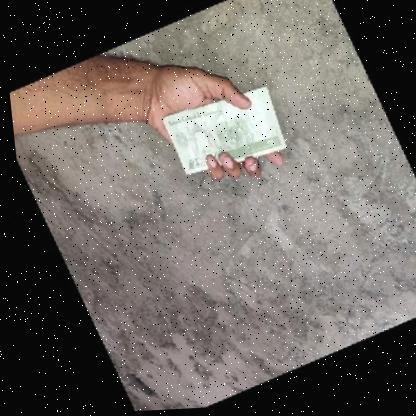fifty-back-vef: (155, 87, 286, 177)
